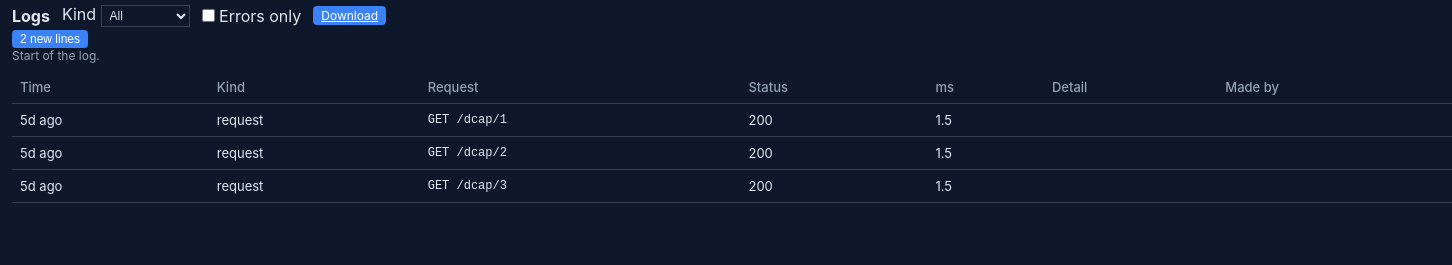
Test: DeviceLog › keeps the rows under the reader still while a poll delivers lines, and the jump lands at the bottom
(page scrolled)
Check: the number of rows with test id "device-log-row" is 3, box [12,104,1451,136]; [12,136,1451,170]; [12,170,1451,202]
Click the button with test id "device-logs-new" at x=50, y=39, box [12,30,88,48]
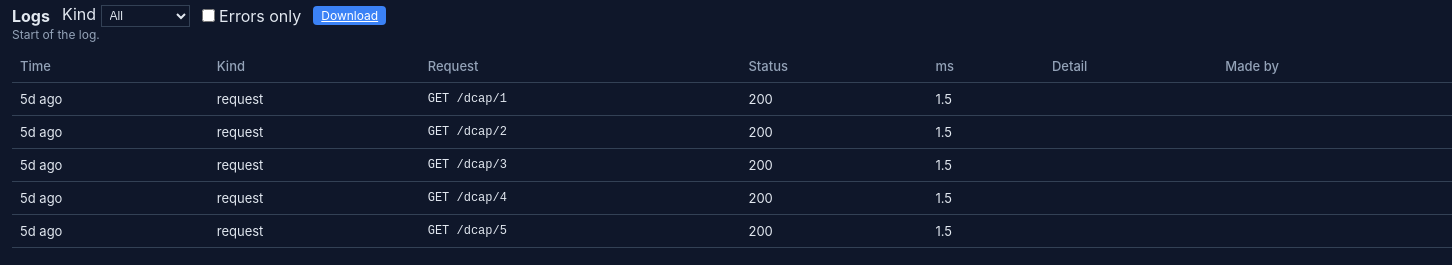
Check: the button with test id "device-logs-new" is gone
